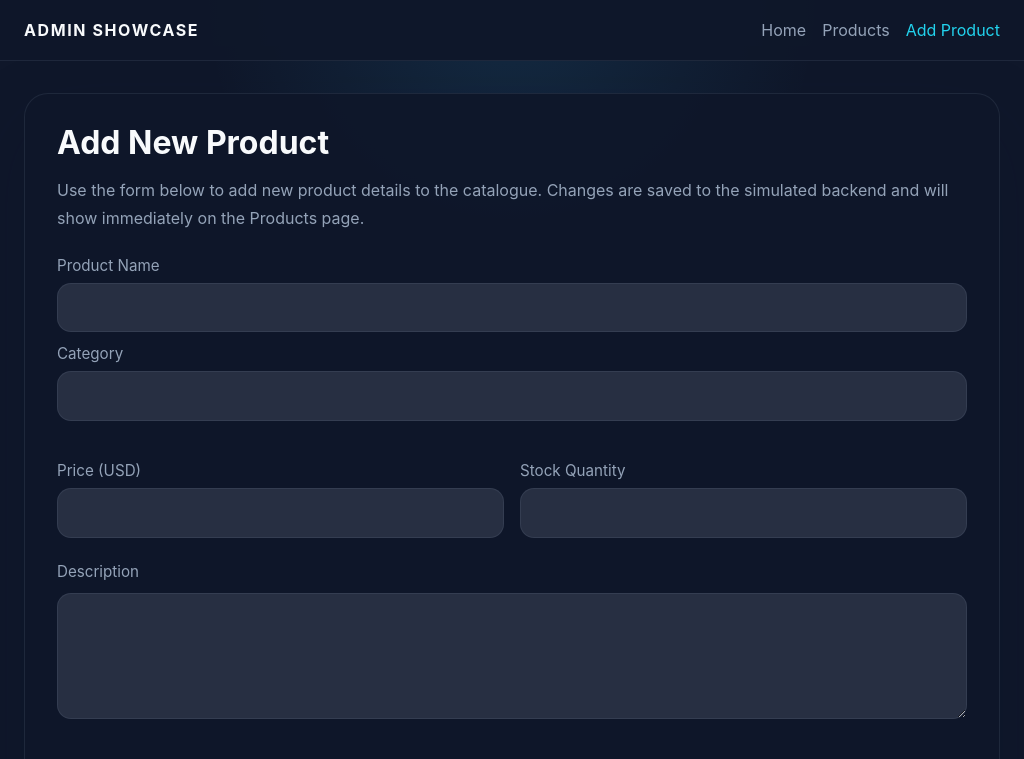
AddProduct page › submits new product and shows success message
Type "Test Product" into the field labelled "Product Name" at x=512, y=308, box [57, 283, 967, 332]
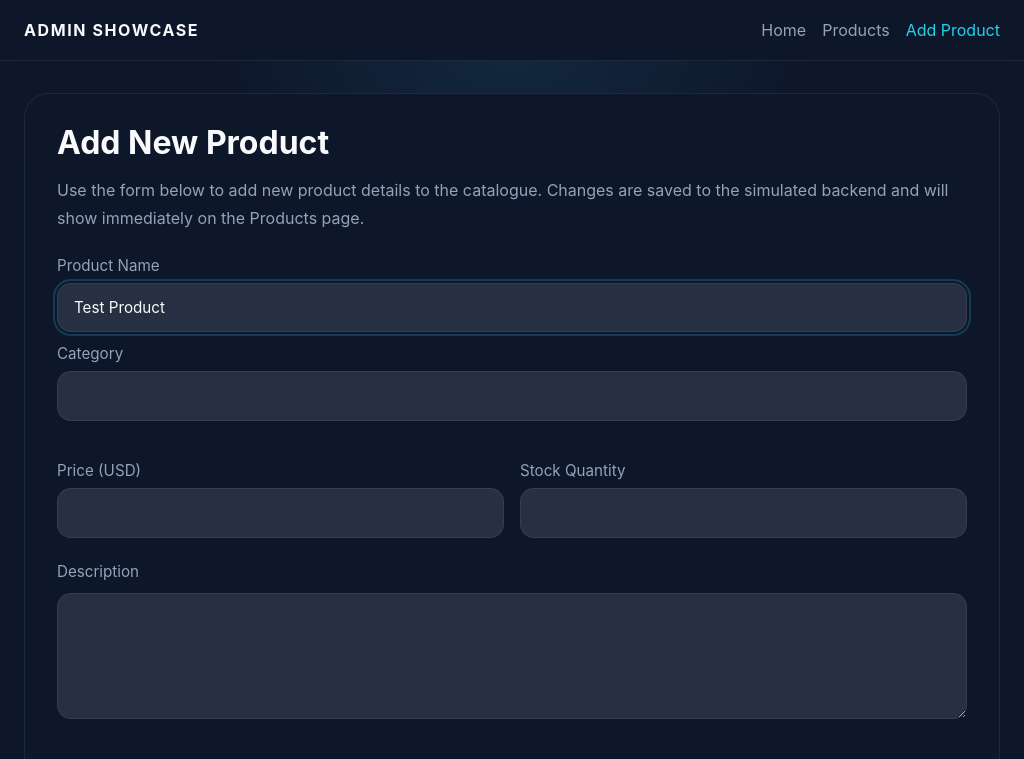
Type "Test" into the field labelled "Category" at x=512, y=396, box [57, 371, 967, 421]
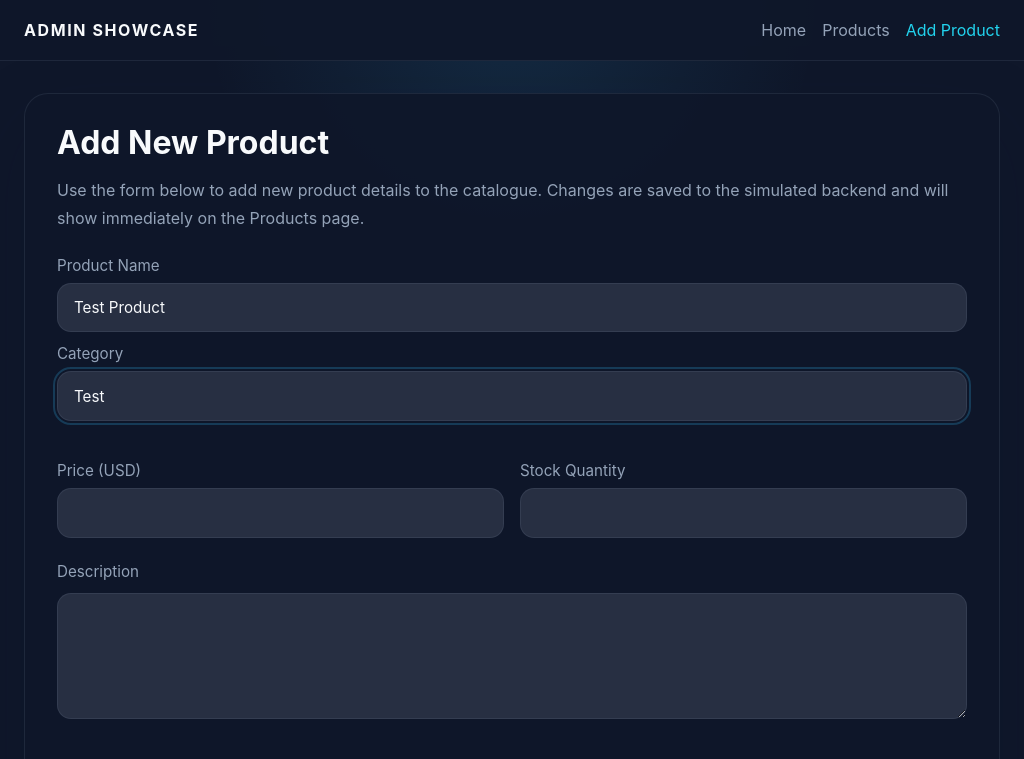
Type "12.99" into the number field labelled "Price (USD)" at x=280, y=513, box [57, 488, 504, 538]
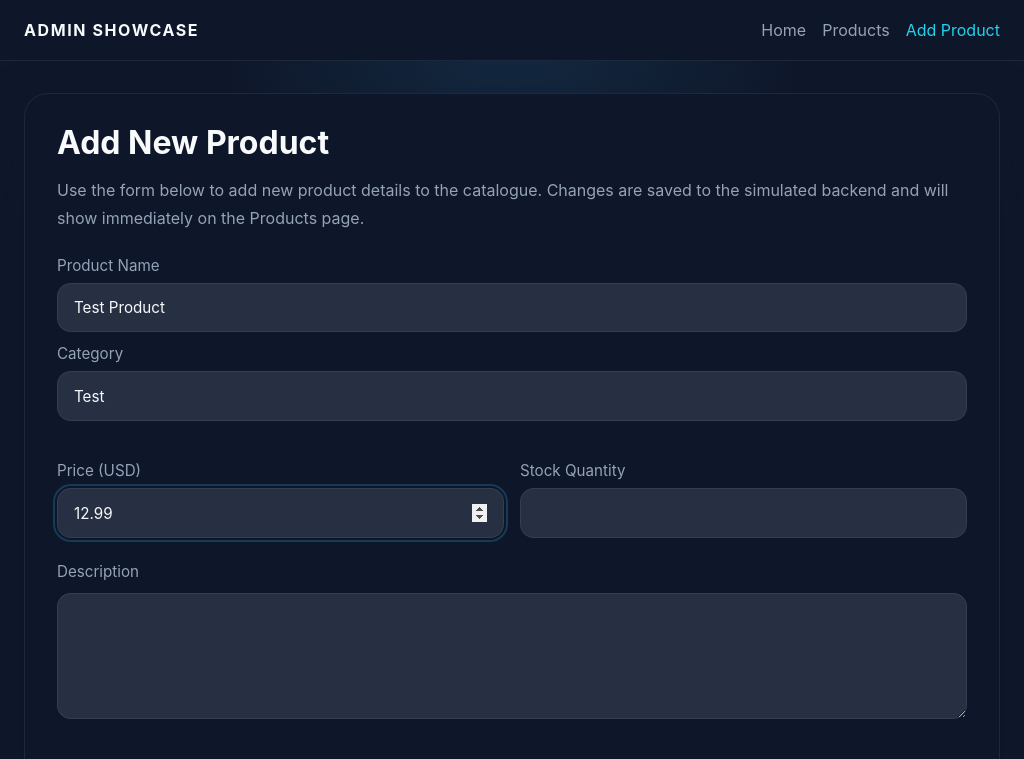
Type "3" into the number field labelled "Stock Quantity" at x=744, y=513, box [520, 488, 967, 538]
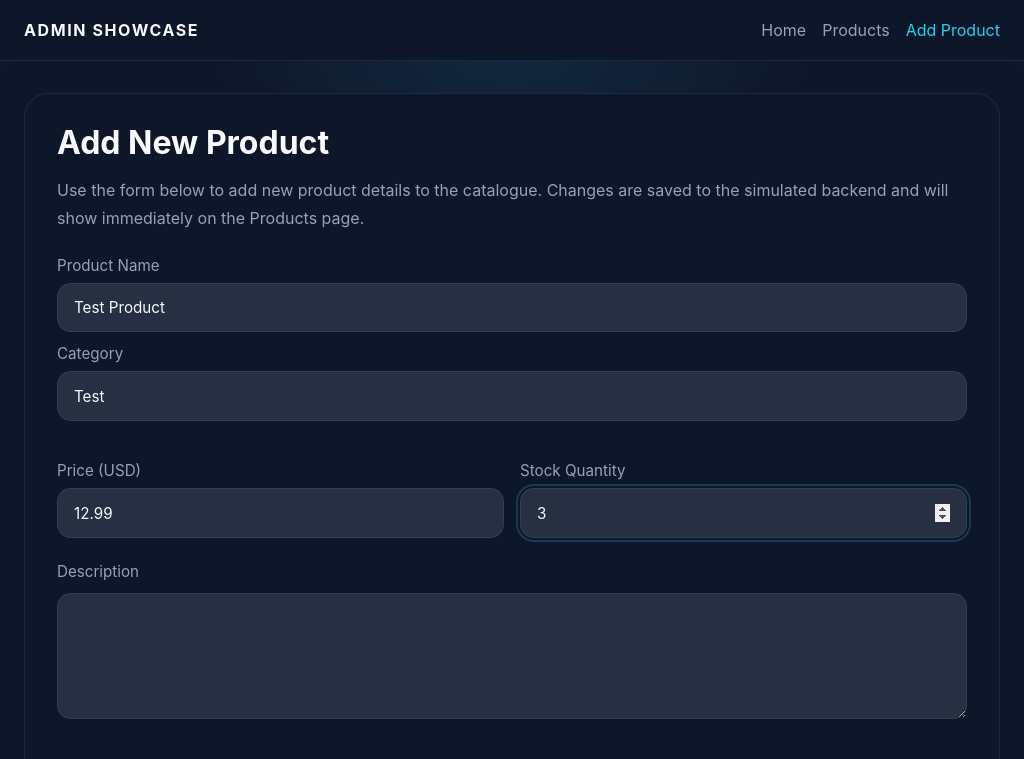
Type "New sample item" into the text box labelled "Description" at x=512, y=656, box [57, 593, 967, 719]
(page scrolled)
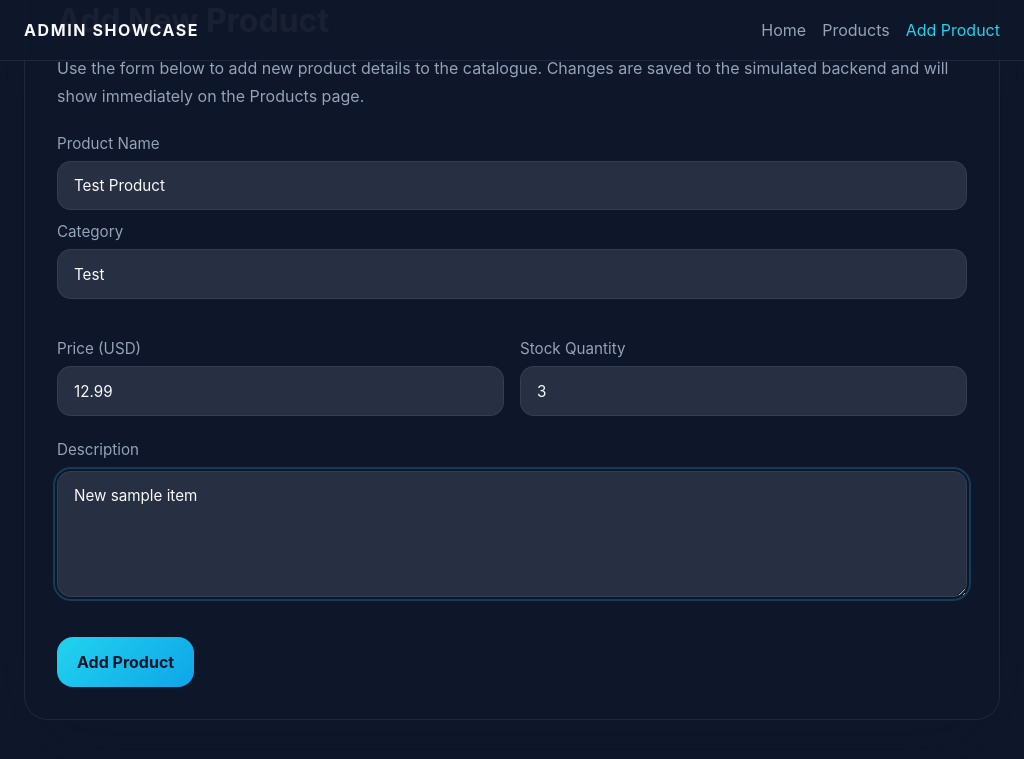
Click the button "Add Product" at x=126, y=662, box [57, 637, 194, 687]
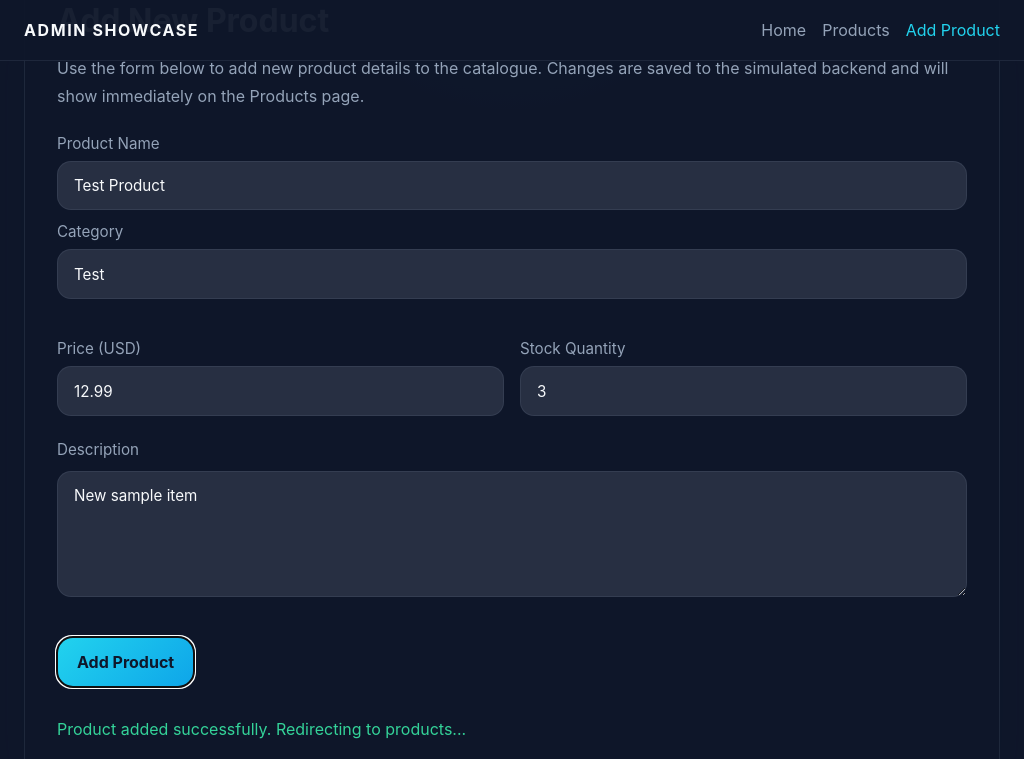
Result: the text "Product added successfully. Redirecting to products..." is shown at [57, 719, 466, 739]
